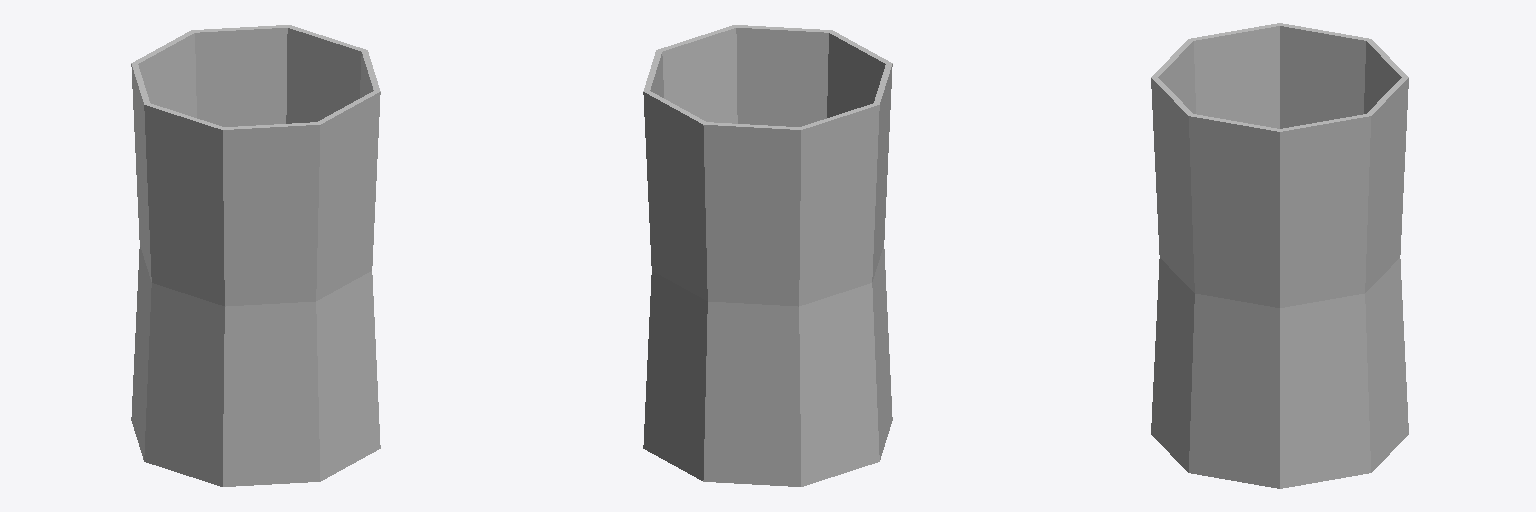
Rendered from barrel.obj.
3 views of the same model, side by side, from view 1: azimuth 30°, elevation 25°; view 2: azimuth 150°, elevation 25°; view 3: azimuth 270°, elevation 25° (orthographic).
Parts seen in each view (by area): view 1: opened_barell_OK.001; view 2: opened_barell_OK.001; view 3: opened_barell_OK.001.
Part boxes in pixels (x1,y1,x2,y2): opened_barell_OK.001: (131,25,380,486); opened_barell_OK.001: (643,25,892,486); opened_barell_OK.001: (1151,23,1408,488).
Size of the model in its own units: 0.57 by 0.87 by 0.57.